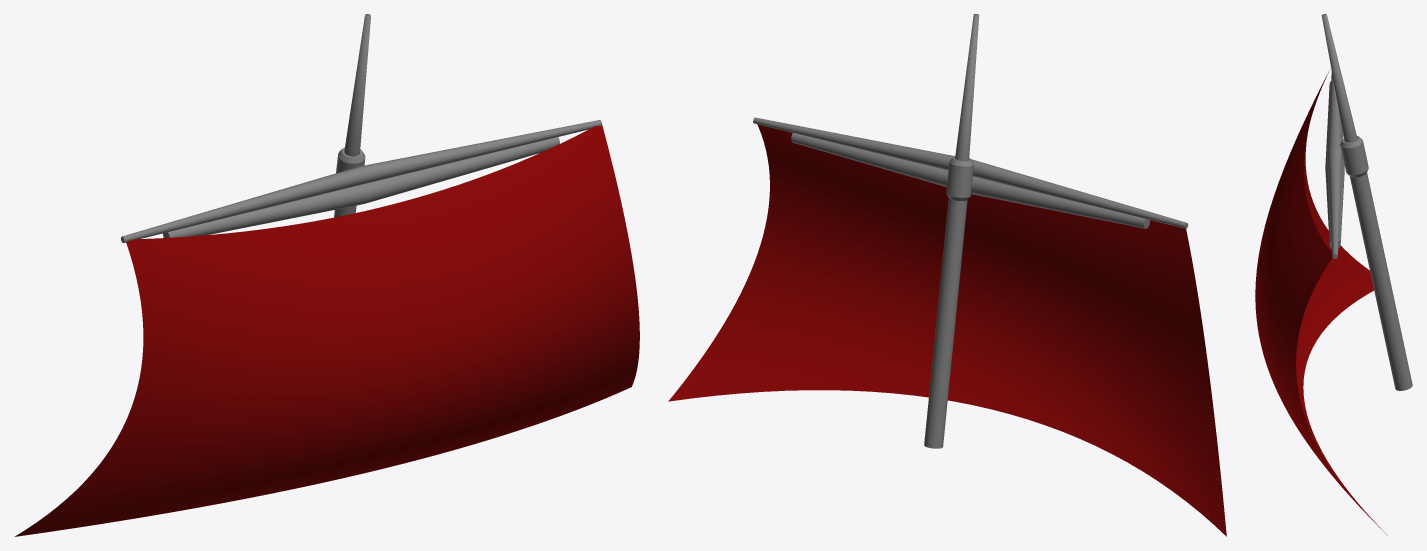
File: MastSternTop.fbx
3 renders of one model, left to right at view 1: azimuth 30°, elevation 25°; view 2: azimuth 150°, elevation 25°; view 3: azimuth 270°, elevation 25°, orthographic. The views are drawn at different scales.
Parts seen in each view (by area): view 1: Object002; view 2: Object002; view 3: Object002.
Boxes of the visible parts, left/top/right/bottom form: Object002: left=14, top=14, right=639, bottom=536; Object002: left=668, top=14, right=1226, bottom=536; Object002: left=1255, top=14, right=1412, bottom=535.
Size of the model in its own units: 26.03 by 19.08 by 6.83.
